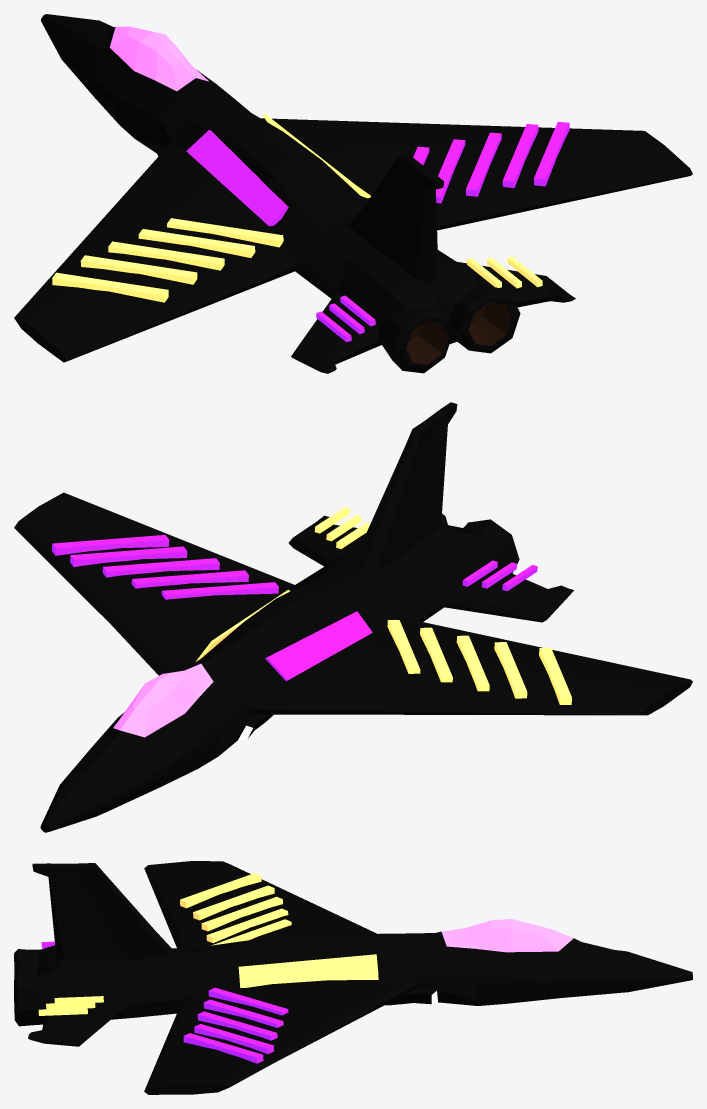
The model's file is neonjet.glb.
The picture shows the model from 3 angles, top to bottom: view 1: azimuth 30°, elevation 25°; view 2: azimuth 150°, elevation 25°; view 3: azimuth 270°, elevation 25°; orthographic projection. The views are drawn at different scales.
Visible parts, largest first — view 1: Jet; view 2: Jet; view 3: Jet.
Part boxes in pixels (<box>): Jet: <box>14,14,692,373</box>; Jet: <box>14,402,692,832</box>; Jet: <box>14,861,692,1094</box>.
Size of the model in its own units: 12.12 by 3.36 by 13.83.
